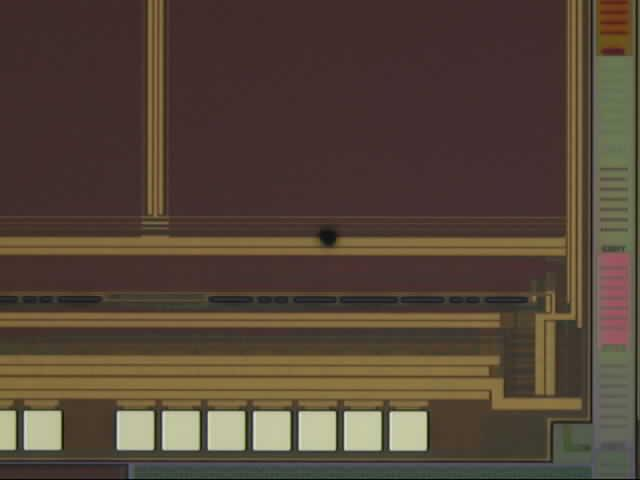PIQ PARTICLE: (313, 223, 345, 255)
